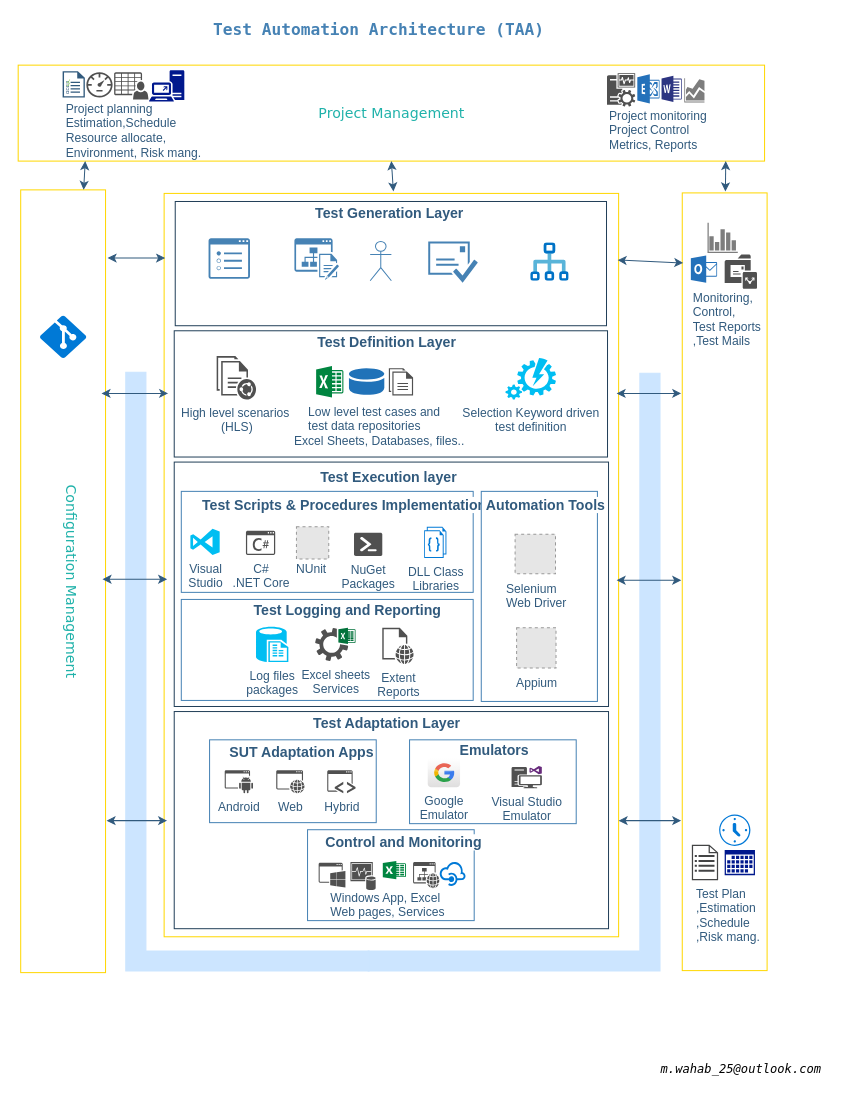
The diagram is 843 pixels wide and 1095 high, and some of its shapes have lost their labels. Grey dashed boxes stand in for pictures. The centre of each missing label's shape, as x and y in pixels:
"Any Behavior-based test generation" belongs at (x=549, y=261).
"Git Source Control" belongs at (x=62, y=336).
"Models and maps" belongs at (x=316, y=258).
"Requirements and Specifications" belongs at (x=228, y=258).
"Test Automation Framework" belongs at (x=513, y=671).
"Test Management Defect Management" belongs at (x=724, y=581).
"Use cases" belongs at (x=380, y=260).
"User Stories" belongs at (x=452, y=261).
